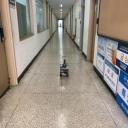cart: (59, 64, 69, 78)
